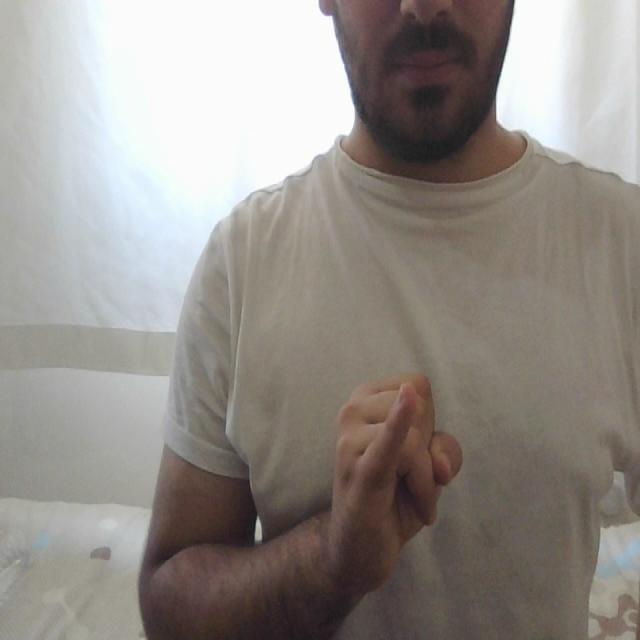kotu: (325, 353, 466, 543)
